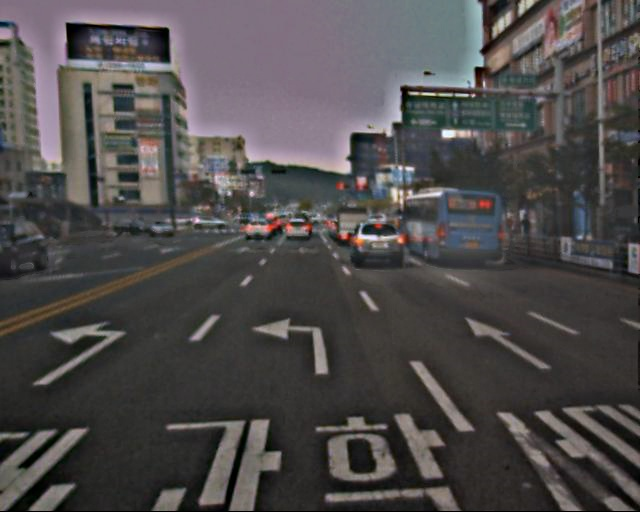person: (519, 211, 534, 247)
